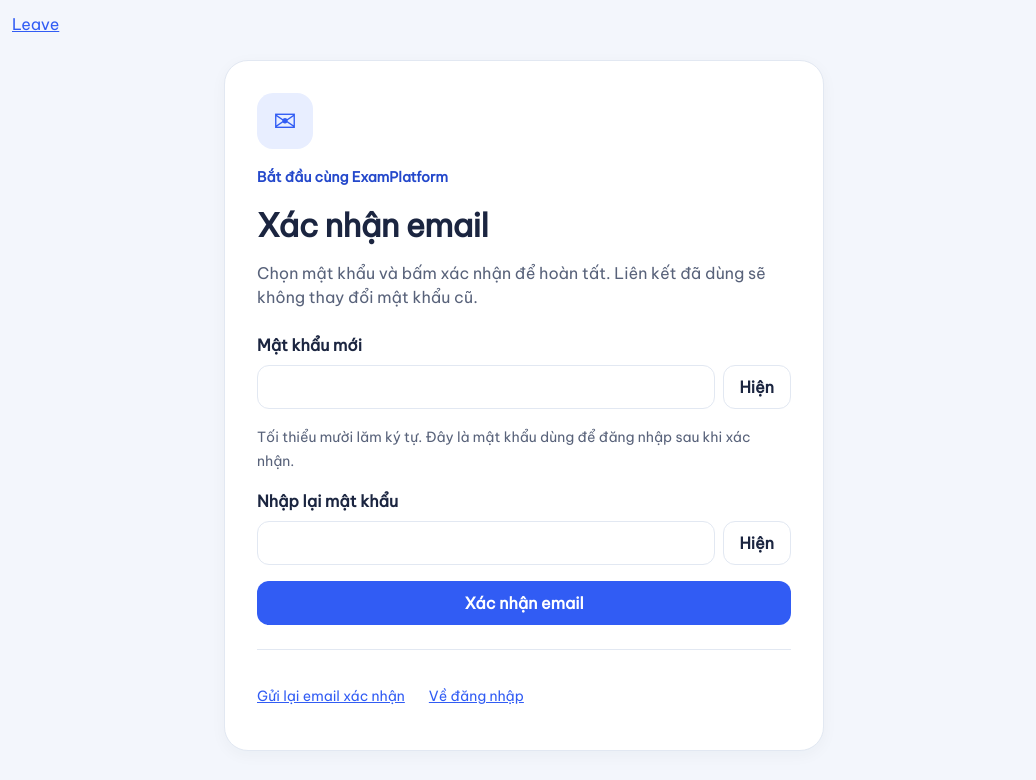
Test case: Identity explicit recovery › checks session explicitly after a forbidden verification response
Type "fixture-password-ok" into the password field labelled "Mật khẩu mới" at (486, 387), box [257,365,714,409]
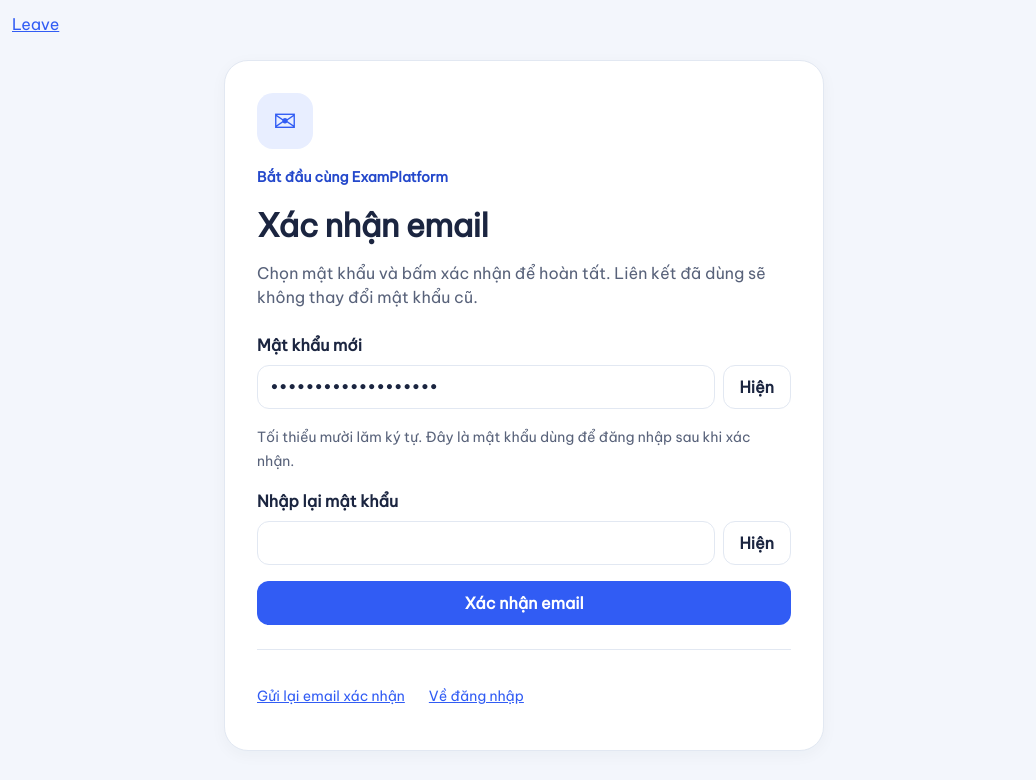
Type "fixture-password-ok" into the password field labelled "Nhập lại mật khẩu" at (486, 543), box [257,521,714,565]
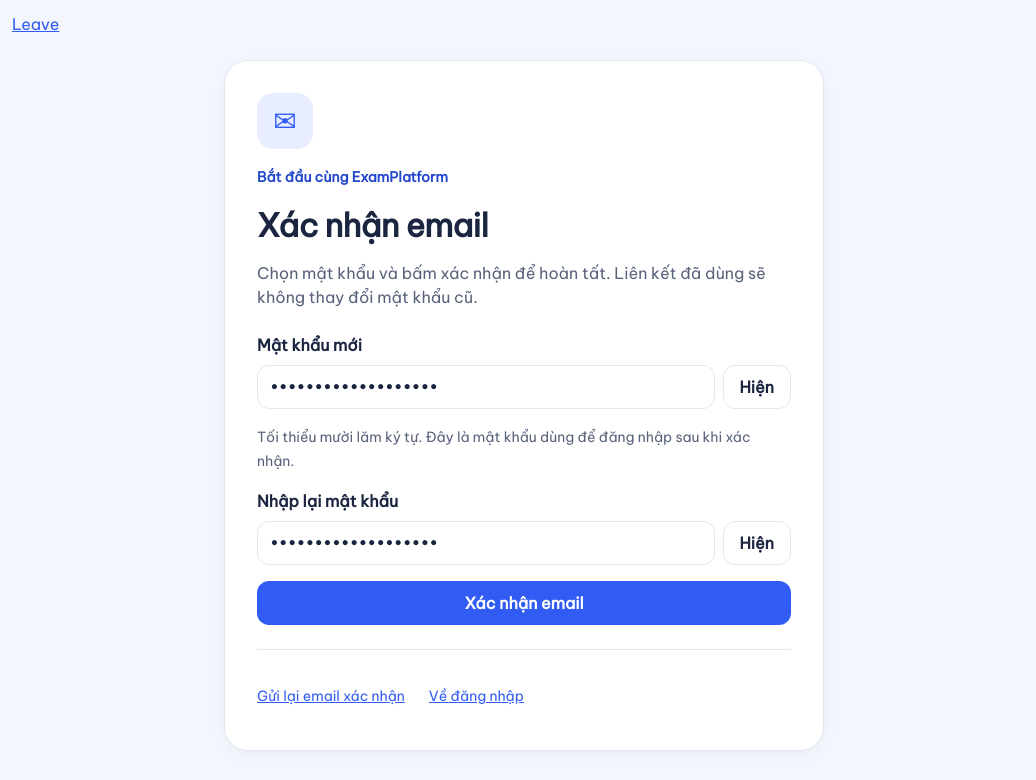
Click the button "Xác nhận email" at (524, 603), box [257,581,791,625]
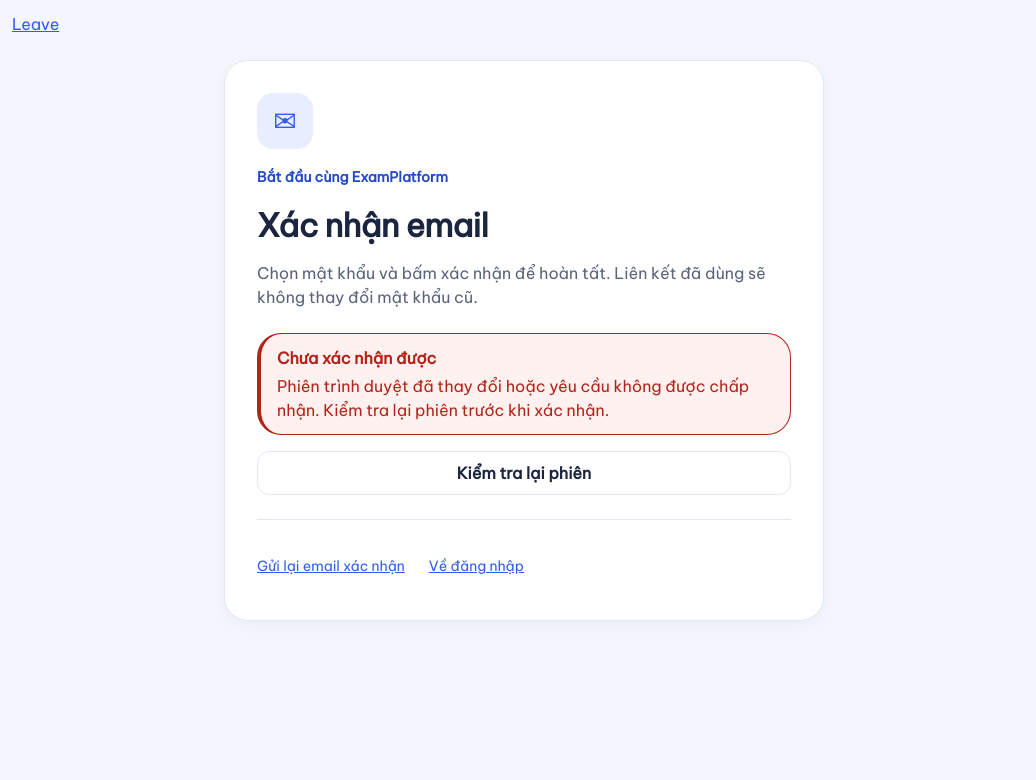
expect the button "Kiểm tra lại phiên" is enabled: met, box [257,451,791,495]
expect the label labelled "Mật khẩu mới" is gone: met
